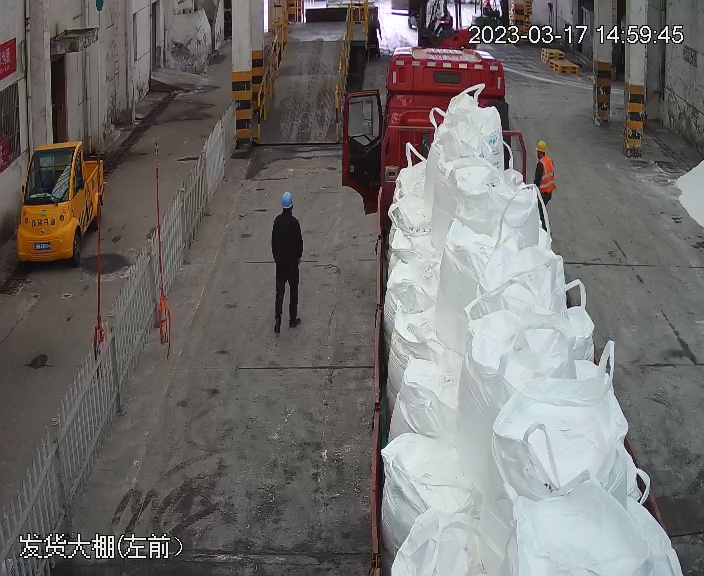head: (271, 191, 301, 231), (534, 139, 555, 170)
helmet: (278, 191, 295, 208), (534, 139, 549, 152)
people: (267, 189, 307, 333), (532, 137, 558, 217)
truck: (342, 39, 694, 574)
